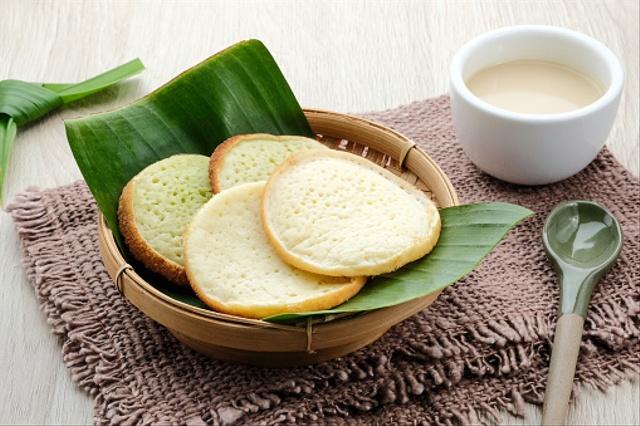srabi: (262, 145, 445, 280)
